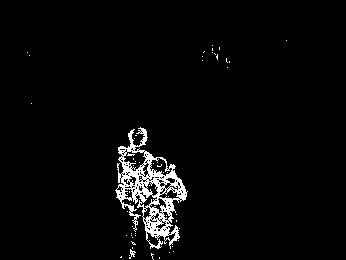person: (117, 126, 151, 260), (145, 156, 184, 259)
